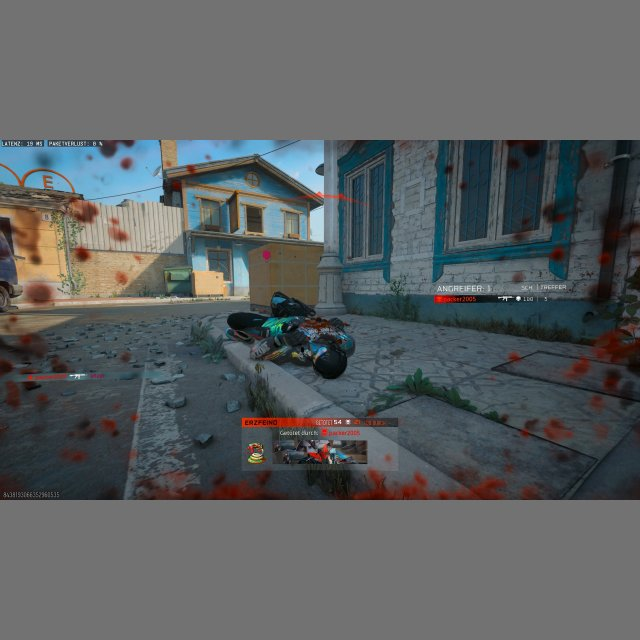head: (314, 347, 347, 379), (270, 292, 292, 317), (336, 331, 355, 356)
